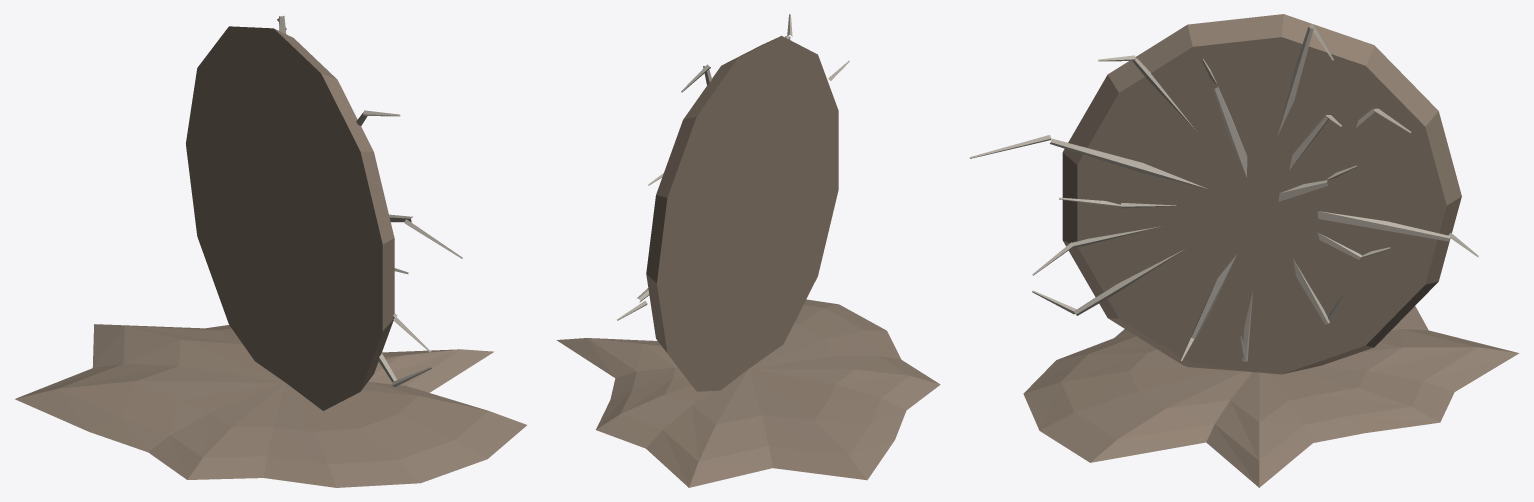
Rendered from temperate-forest-ecology-windthrow-root-plate-d7cab9e8__3826.glb.
3 renders of one model, left to right at view 1: azimuth 30°, elevation 25°; view 2: azimuth 150°, elevation 25°; view 3: azimuth 270°, elevation 25°, orthographic. The views are drawn at different scales.
Visible parts, largest first — view 1: windthrow-root-plate_0, windthrow-root-plate_1; view 2: windthrow-root-plate_0, windthrow-root-plate_1; view 3: windthrow-root-plate_0, windthrow-root-plate_1.
Part boxes in pixels (x1=…): windthrow-root-plate_0: x1=15, y1=26, x2=526, y2=487; windthrow-root-plate_1: x1=277, y1=15, x2=462, y2=386; windthrow-root-plate_0: x1=556, y1=36, x2=940, y2=487; windthrow-root-plate_1: x1=617, y1=14, x2=849, y2=320; windthrow-root-plate_0: x1=1023, y1=14, x2=1519, y2=487; windthrow-root-plate_1: x1=969, y1=24, x2=1478, y2=361.
Bounding box in the file's own units: 4.72 × 4.04 × 5.43.
